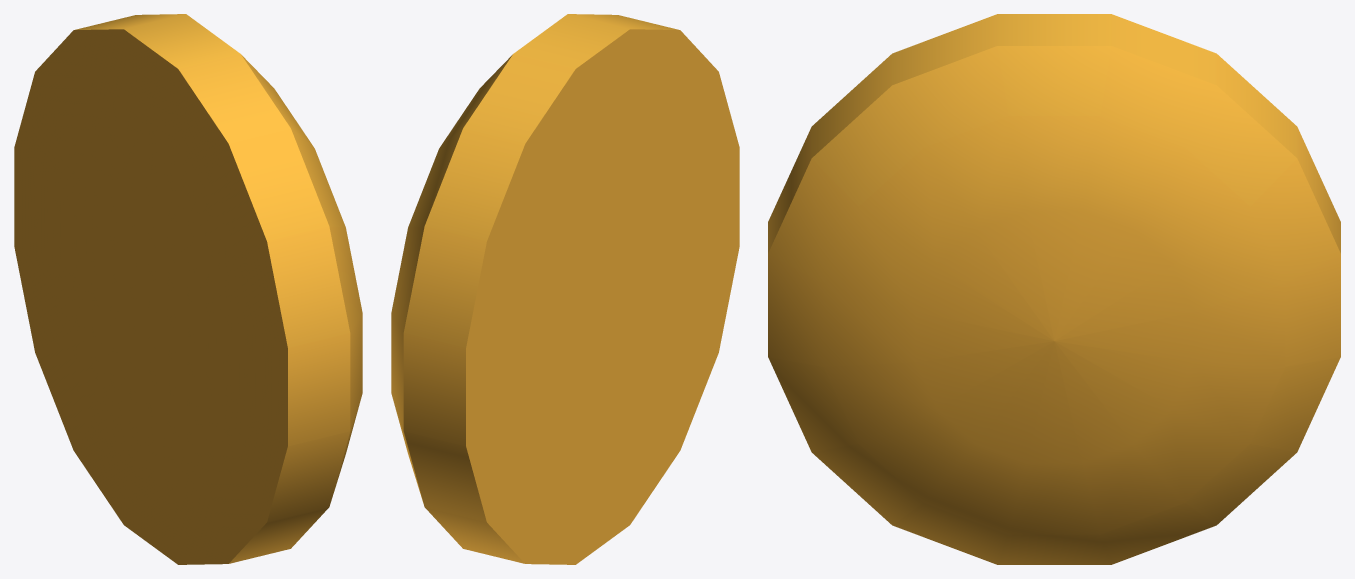
File: lamp_idle.obj
3 renders of one model, left to right at view 1: azimuth 30°, elevation 25°; view 2: azimuth 150°, elevation 25°; view 3: azimuth 270°, elevation 25°, orthographic. The views are drawn at different scales.
Parts seen in each view (by area): view 1: lamp_idle_lens; view 2: lamp_idle_lens; view 3: lamp_idle_lens.
Part boxes in pixels (x1,y1,x2,y2): lamp_idle_lens: [14, 14, 362, 564]; lamp_idle_lens: [391, 14, 739, 564]; lamp_idle_lens: [768, 14, 1340, 564].
Size of the model in its own units: 0.0212 by 0.076 by 0.076.
